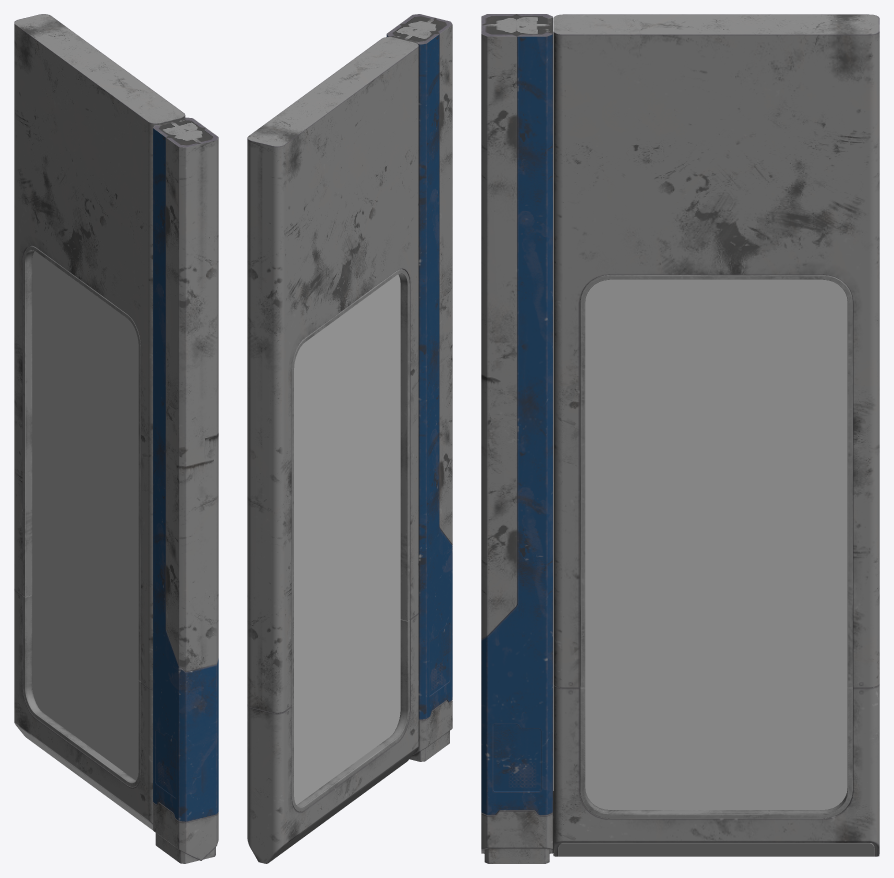
The model's file is SM_CorridorWall02.fbx.
The picture shows the model from 3 angles, left to right: view 1: azimuth 30°, elevation 25°; view 2: azimuth 150°, elevation 25°; view 3: azimuth 270°, elevation 25°; orthographic projection. The views are drawn at different scales.
Visible parts, largest first — view 1: SM_CorridorWall02_LOD0; view 2: SM_CorridorWall02_LOD0; view 3: SM_CorridorWall02_LOD0.
Part boxes in pixels (x1,y1,x2,y2): SM_CorridorWall02_LOD0: (14,14,218,863); SM_CorridorWall02_LOD0: (247,14,452,863); SM_CorridorWall02_LOD0: (481,14,879,863).
Size of the model in its own units: 28.2 by 210 by 482.
2 materials, 1 textured.
